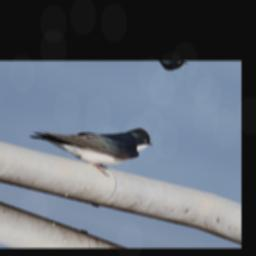Swallow: (22, 99, 158, 185)
